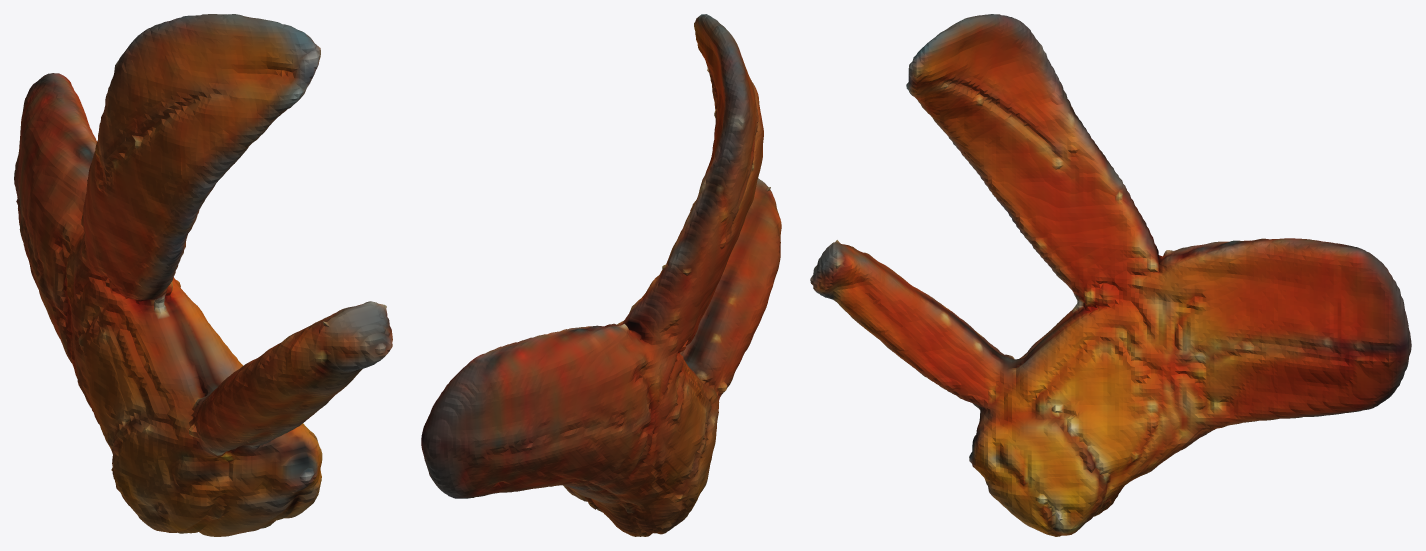
3 renders of one model, left to right at view 1: azimuth 30°, elevation 25°; view 2: azimuth 150°, elevation 25°; view 3: azimuth 270°, elevation 25°, orthographic. The views are drawn at different scales.
Bounding box in the file's own units: 0.3525 × 0.9169 × 1.03.
